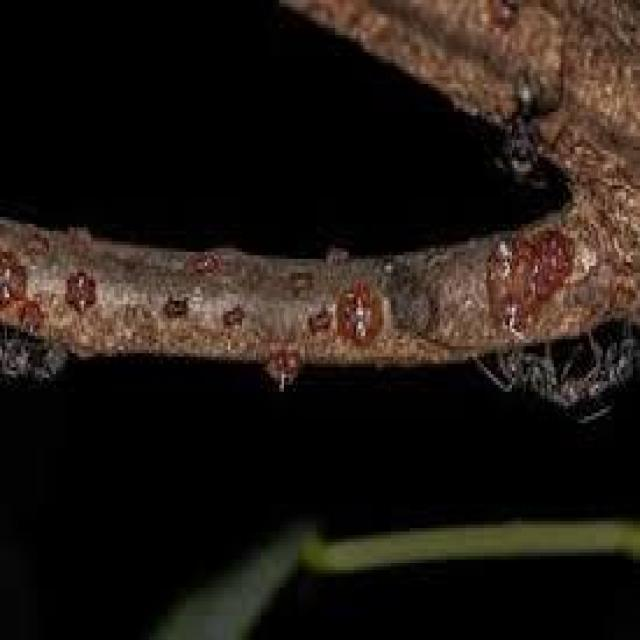BlackScale: (482, 224, 572, 336), (381, 247, 440, 336), (335, 294, 382, 346), (68, 273, 96, 311)
